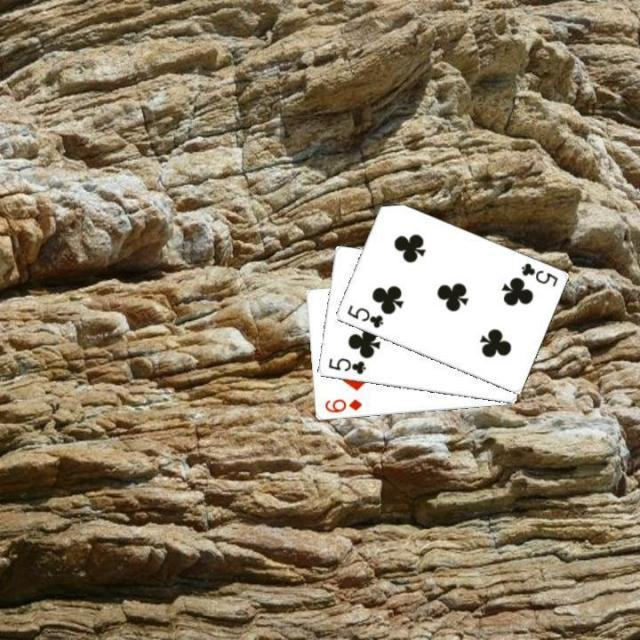5C: (342, 301, 384, 331), (517, 259, 559, 289), (324, 355, 368, 377)
6D: (321, 396, 363, 416)
